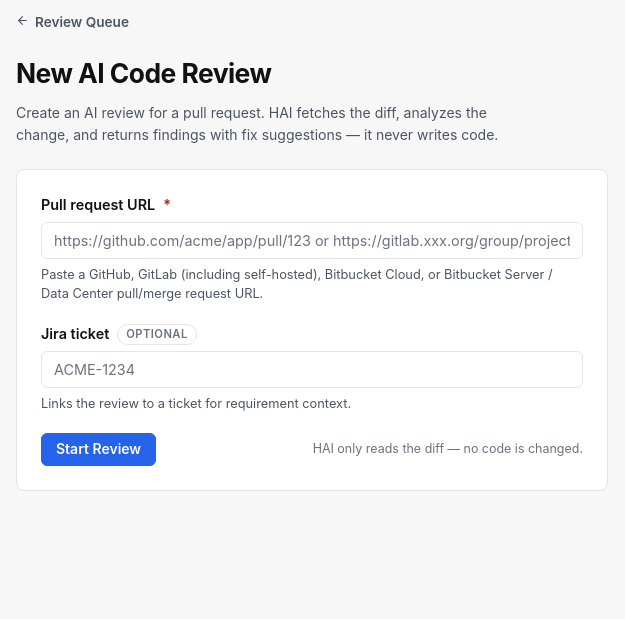
Test: NewReviewPage › surfaces the real sandbox verification status once the report lands
This screenshot has width=625, height=619.
Replace the text in the field labelled "Pull request URL *" with "https://github.com/acme/app/pull/123": (312, 240) 41,222 -> 583,259
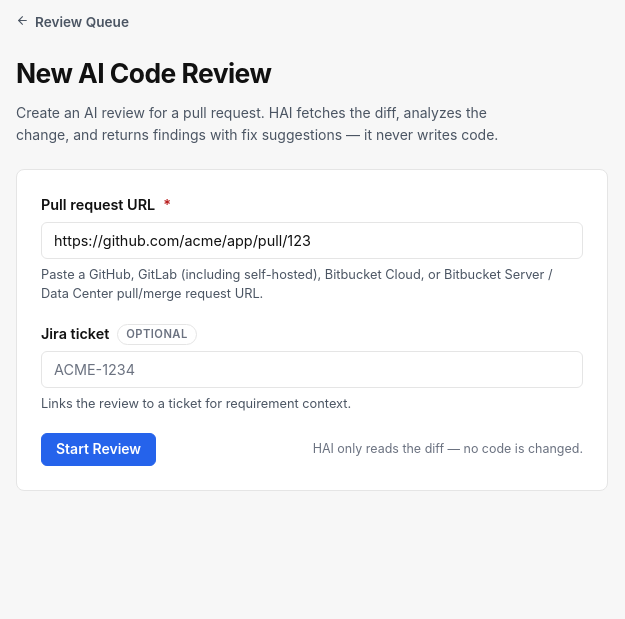
Click the button "Start Review": (99, 450) 41,433 -> 156,466
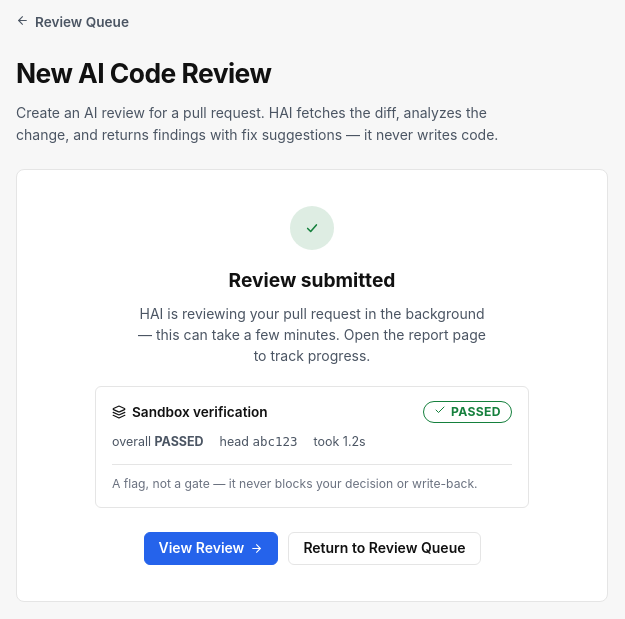
Expected: the heading "Review submitted" is shown, 229,268 -> 396,292
Expected: the text "Sandbox verification" is shown, 112,402 -> 268,422
Expected: the element with test id "sandbox-status" reads "passed", 451,404 -> 501,419
